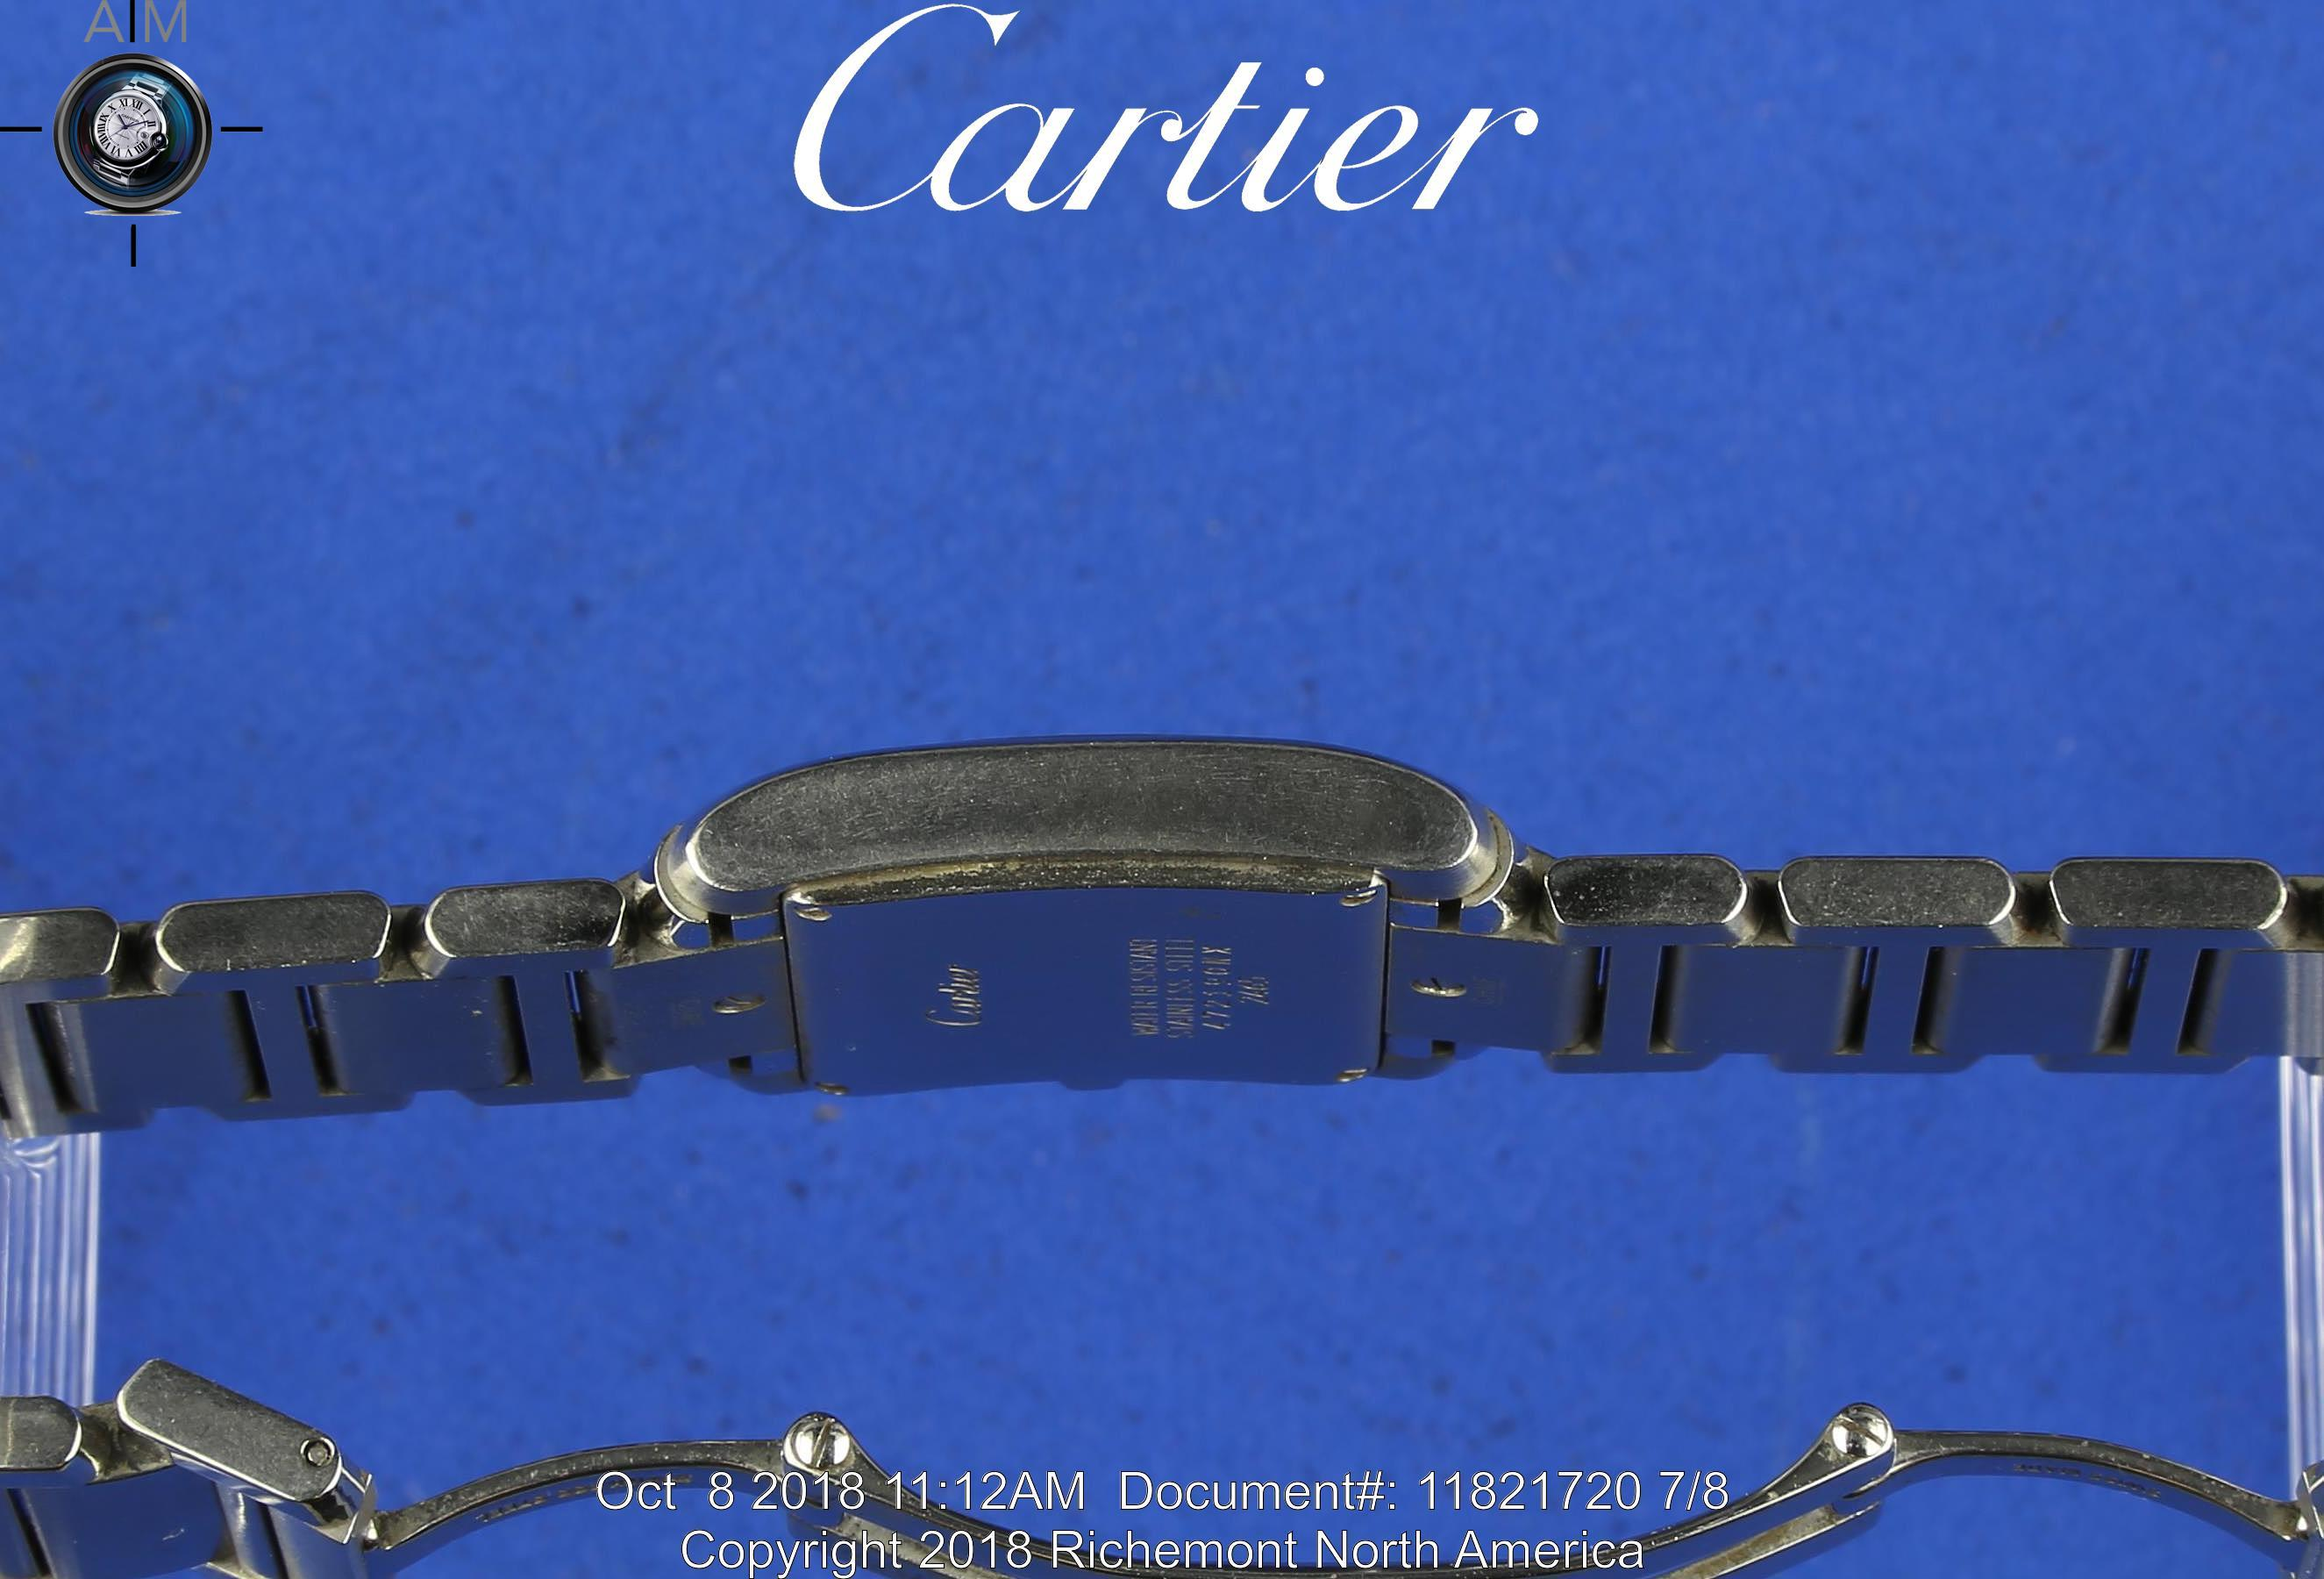watchback: (788, 876, 1399, 1094)
